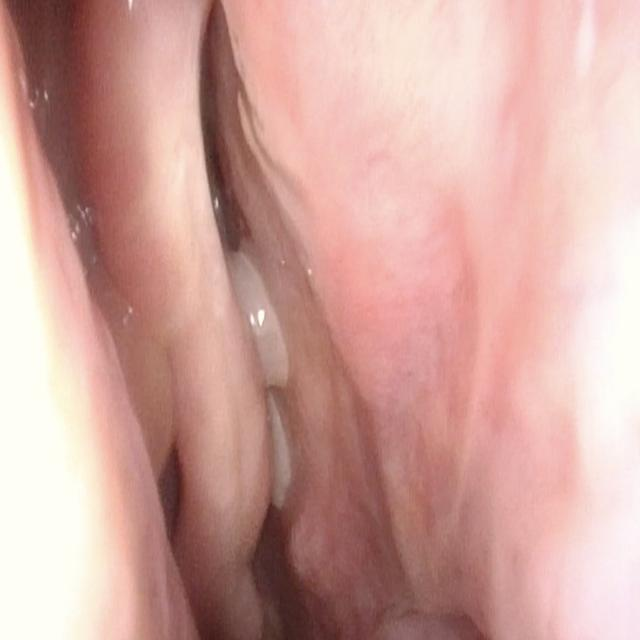POLYPS: (0, 25, 75, 496), (217, 232, 299, 384), (249, 386, 304, 519)
